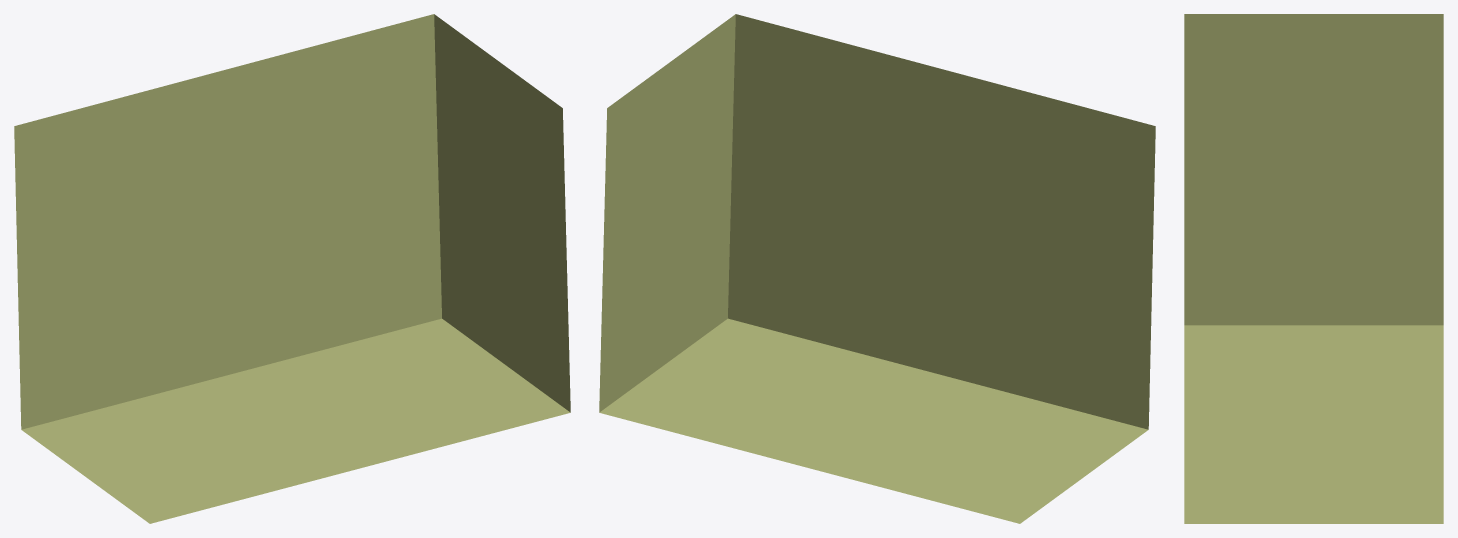
3 renders of one model, left to right at view 1: azimuth 30°, elevation 25°; view 2: azimuth 150°, elevation 25°; view 3: azimuth 270°, elevation 25°, orthographic.
Visible parts, largest first — view 1: 0_1_2_0_3_2_1_0_0_1; view 2: 0_1_2_0_3_2_1_0_0_1; view 3: 0_1_2_0_3_2_1_0_0_1.
Boxes of the visible parts, left/top/right/bottom form: 0_1_2_0_3_2_1_0_0_1: left=14, top=14, right=570, bottom=523; 0_1_2_0_3_2_1_0_0_1: left=599, top=14, right=1155, bottom=523; 0_1_2_0_3_2_1_0_0_1: left=1184, top=14, right=1443, bottom=523.
Size of the model in its own units: 17.28 by 12.15 by 9.
